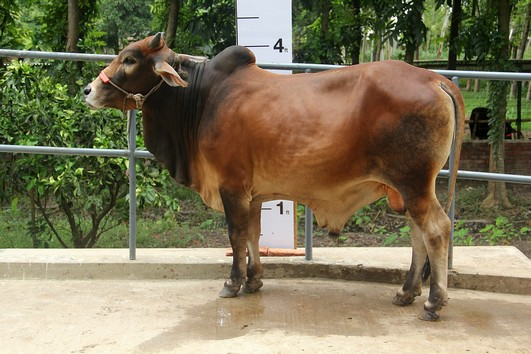cow: (74, 26, 466, 324)
